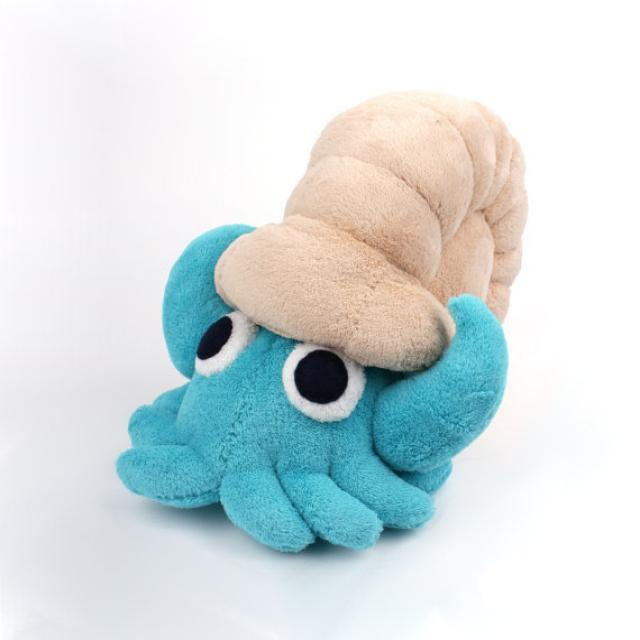Omanyte: (124, 100, 526, 547)
